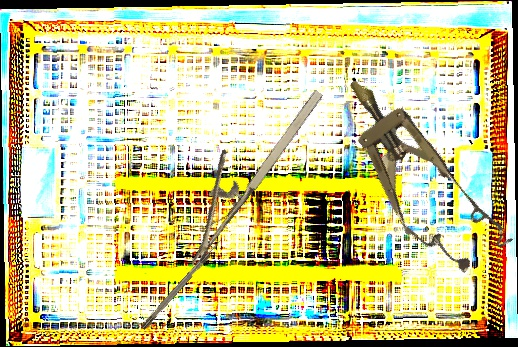Hook Surgical: (140, 238, 224, 330)
Needle Holder: (155, 67, 329, 270)
Speculum: (317, 57, 516, 288)
